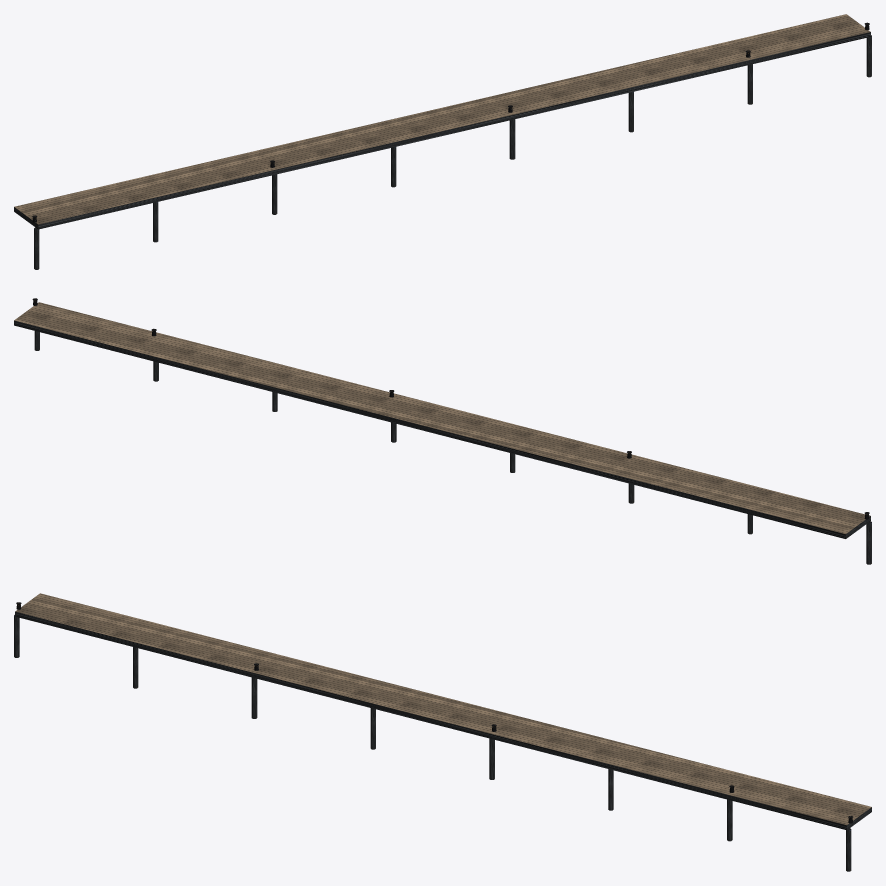
File: SM_Molo_Pontiletto_Nord.fbx
3 renders of one model, top to bottom at view 1: azimuth 30°, elevation 25°; view 2: azimuth 150°, elevation 25°; view 3: azimuth 330°, elevation 25°, orthographic. The views are drawn at different scales.
Parts seen in each view (by area): view 1: SM_Molo_Pontiletto_Nord; view 2: SM_Molo_Pontiletto_Nord; view 3: SM_Molo_Pontiletto_Nord.
Boxes of the visible parts, x1,y1,x2,y2 form: SM_Molo_Pontiletto_Nord: (14,14,871,269); SM_Molo_Pontiletto_Nord: (14,298,871,564); SM_Molo_Pontiletto_Nord: (14,593,871,871).
Size of what is drawn, in the model's own units: 3520 by 259 by 209.
Materials: 2 (2 with a texture image).
